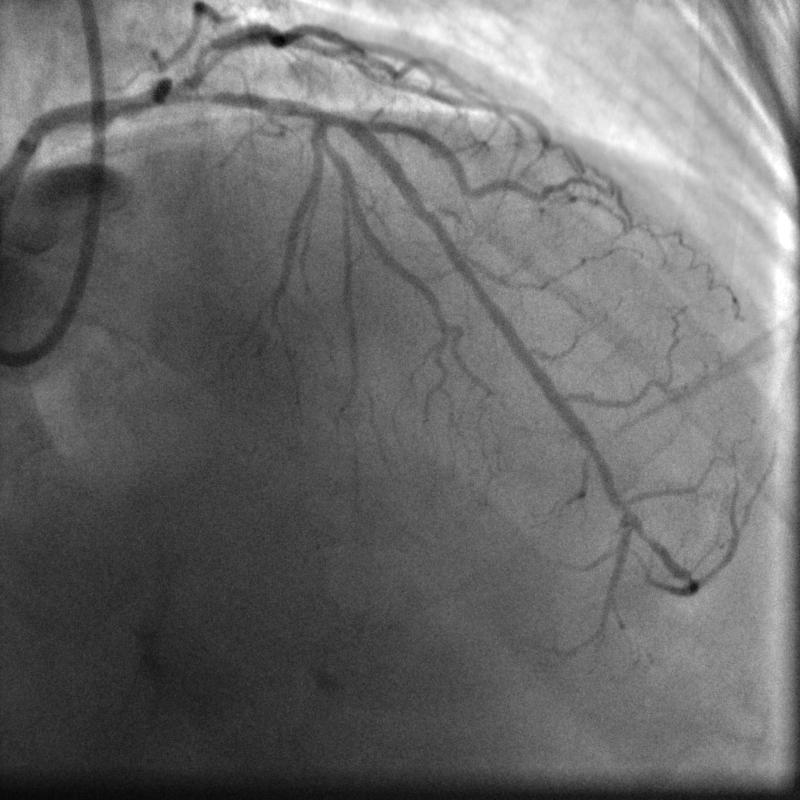Stenosis: (173, 85, 245, 110)
